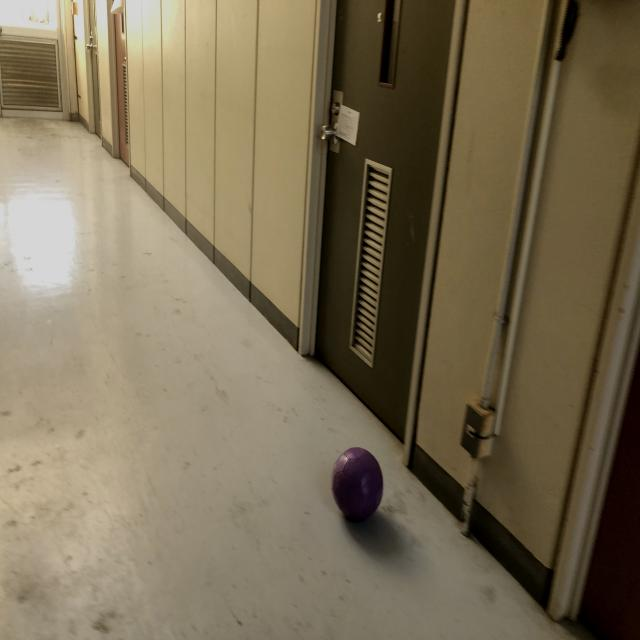purple_ball: (332, 446, 384, 518)
